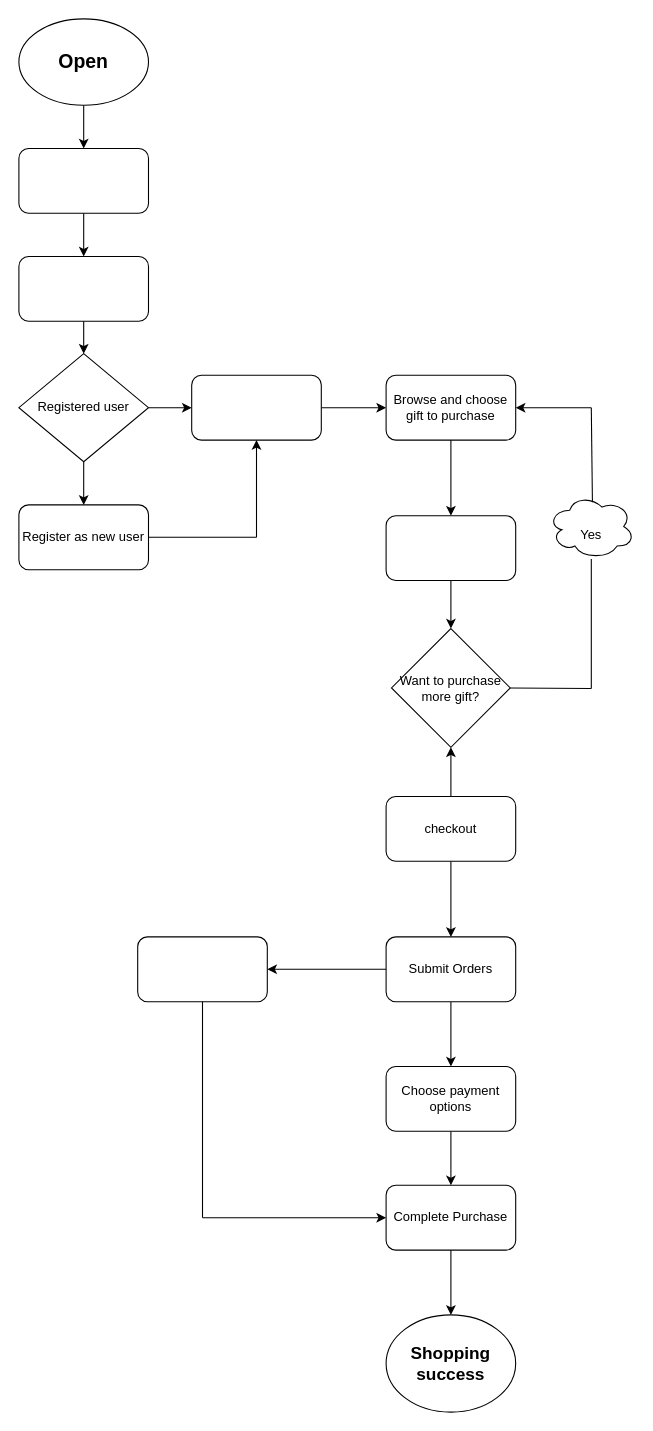
Image size: 653x1431. Some labels were removed from this diagram. Each missing label, with the centre of its shape:
"Choose date for dilivery fill your details" goes at point 202,969.
"Choose the best suitable website" goes at point 83,288.
"Click add to cart button" goes at point 450,547.
"Look up for the website" goes at point 83,180.
"User Login" goes at point 256,407.
